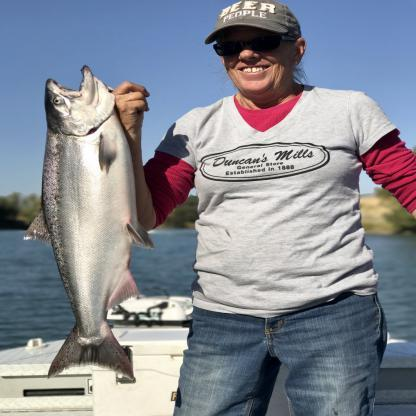fish: (22, 64, 154, 376)
